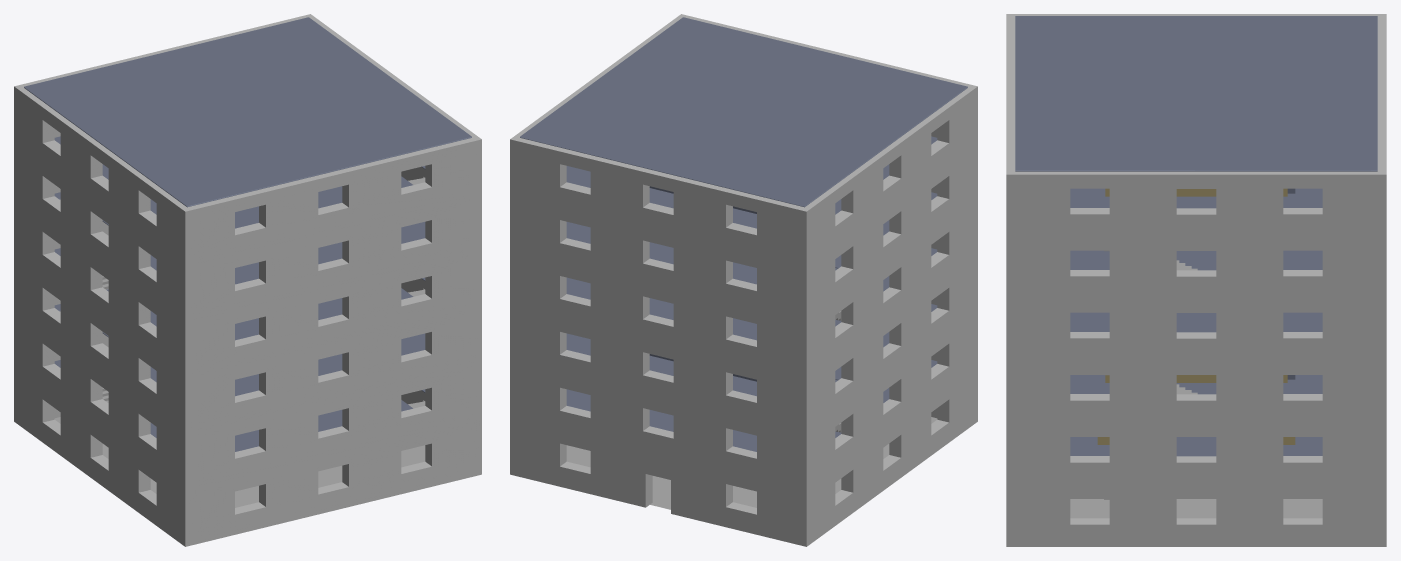
Rendered from B3_floored.fbx.
3 renders of one model, left to right at view 1: azimuth 30°, elevation 25°; view 2: azimuth 150°, elevation 25°; view 3: azimuth 270°, elevation 25°, orthographic. The views are drawn at different scales.
Parts seen in each view (by area): view 1: Floor7, Wall43, Wall31, Wall35, Wall39, Wall27, Wall23, Wall44, Wall22, Wall40, Wall28, Wall32 (+11 smaller); view 2: Floor7, Wall45, Wall37, Wall33, Wall41, Wall29, Wall24, Wall44, Wall22, Wall28, Wall32, Wall36 (+12 smaller); view 3: Floor7, Wall42, Wall34, Wall38, Wall30, Wall21, Wall26, Floor, Floor9, Wall43, Floor4, Wall45 (+13 smaller).
Boxes of the visible parts, x1=… form: Floor7: x1=24, y1=17, x2=471, y2=207; Wall43: x1=178, y1=135, x2=481, y2=267; Wall31: x1=178, y1=307, x2=481, y2=434; Wall35: x1=178, y1=251, x2=481, y2=379; Wall39: x1=178, y1=196, x2=481, y2=323; Wall27: x1=178, y1=363, x2=481, y2=490; Wall23: x1=178, y1=420, x2=481, y2=546; Wall44: x1=14, y1=83, x2=197, y2=267; Wall22: x1=14, y1=366, x2=197, y2=546; Wall40: x1=14, y1=142, x2=197, y2=322; Wall28: x1=14, y1=310, x2=197, y2=490; Wall32: x1=14, y1=254, x2=197, y2=434; Floor7: x1=520, y1=17, x2=967, y2=207; Wall45: x1=510, y1=135, x2=813, y2=266; Wall37: x1=510, y1=252, x2=813, y2=378; Wall33: x1=510, y1=307, x2=813, y2=434; Wall41: x1=510, y1=195, x2=813, y2=322; Wall29: x1=510, y1=363, x2=813, y2=490; Wall24: x1=510, y1=420, x2=813, y2=546; Wall44: x1=794, y1=83, x2=977, y2=267; Wall22: x1=794, y1=366, x2=977, y2=546; Wall28: x1=794, y1=310, x2=977, y2=490; Wall32: x1=794, y1=254, x2=977, y2=434; Wall36: x1=794, y1=202, x2=977, y2=379; Floor7: x1=1015, y1=16, x2=1377, y2=171; Wall42: x1=1006, y1=168, x2=1386, y2=236; Wall34: x1=1006, y1=298, x2=1386, y2=360; Wall38: x1=1006, y1=236, x2=1386, y2=298; Wall30: x1=1006, y1=361, x2=1386, y2=422; Wall21: x1=1006, y1=485, x2=1386, y2=546; Wall26: x1=1006, y1=423, x2=1386, y2=484; Floor: x1=1070, y1=499, x2=1322, y2=518; Floor9: x1=1070, y1=250, x2=1322, y2=270; Wall43: x1=1006, y1=14, x2=1021, y2=236; Floor4: x1=1070, y1=437, x2=1322, y2=456; Wall45: x1=1371, y1=14, x2=1386, y2=236.
Size of the model in its own units: 25 by 27.11 by 25.
